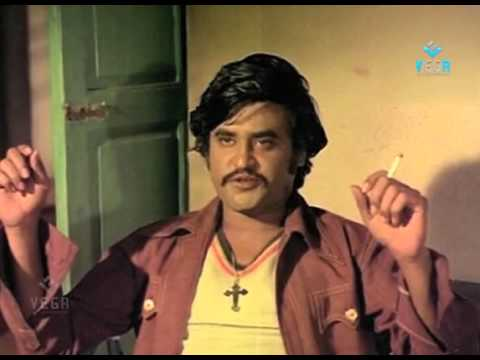cigarette: (383, 148, 404, 182)
